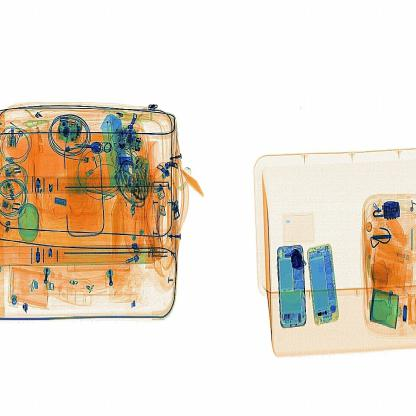scissors: (288, 244, 312, 272)
